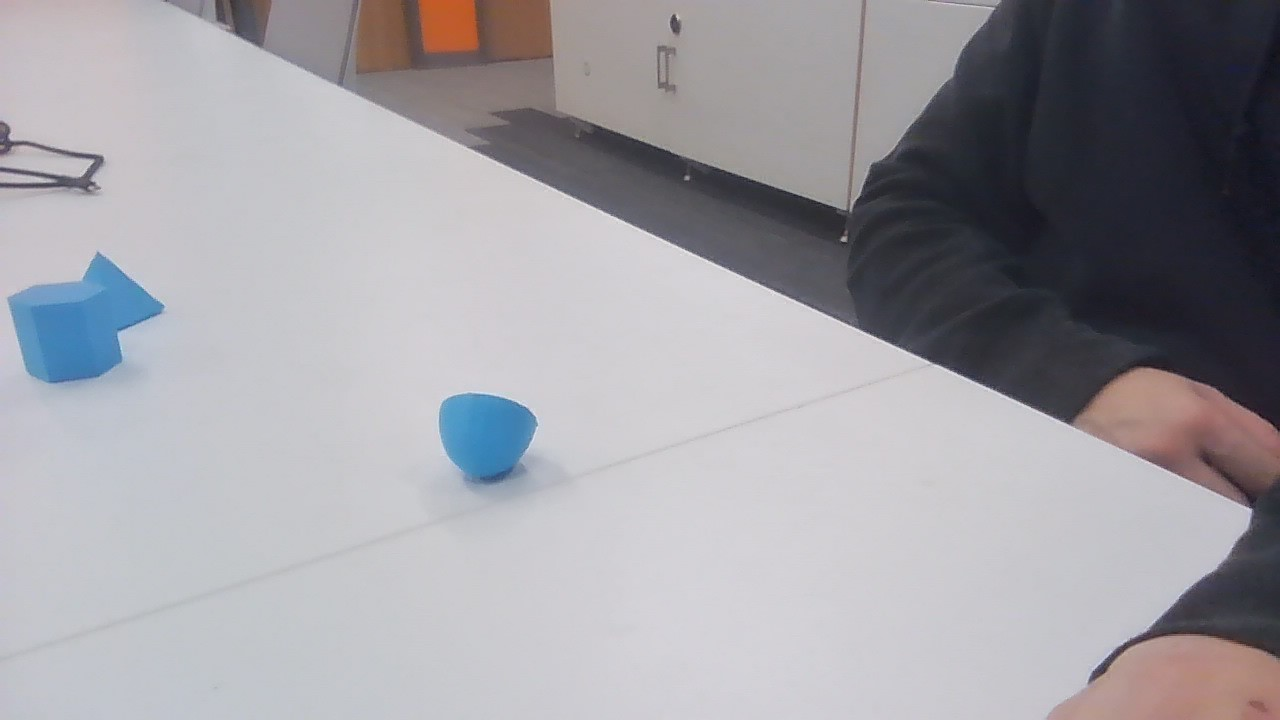halfsphere: (440, 393, 539, 478)
